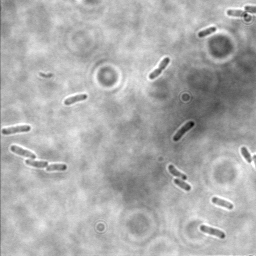Dividing: (148, 56, 170, 81), (1, 123, 31, 136), (62, 93, 88, 106)
Rod: (172, 120, 196, 142), (9, 144, 37, 160), (199, 224, 226, 240), (167, 162, 188, 182), (210, 196, 233, 211), (172, 177, 192, 192), (196, 26, 216, 39), (45, 162, 68, 173), (239, 145, 252, 164), (25, 158, 48, 168), (226, 9, 248, 18)
